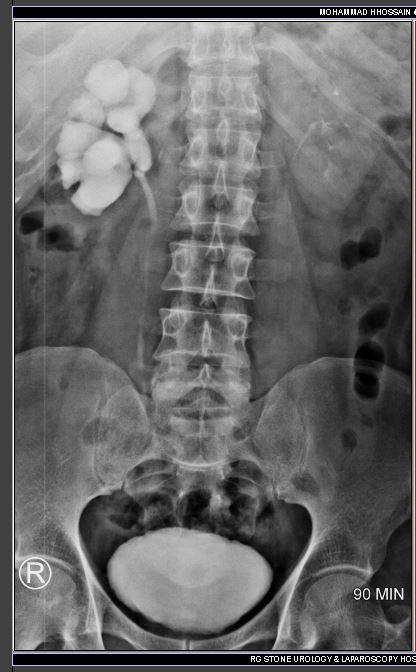bladder: (89, 526, 276, 648)
left kidney: (264, 38, 388, 222)
right kidney: (40, 44, 156, 221)
vertebrae: (174, 117, 257, 175)
